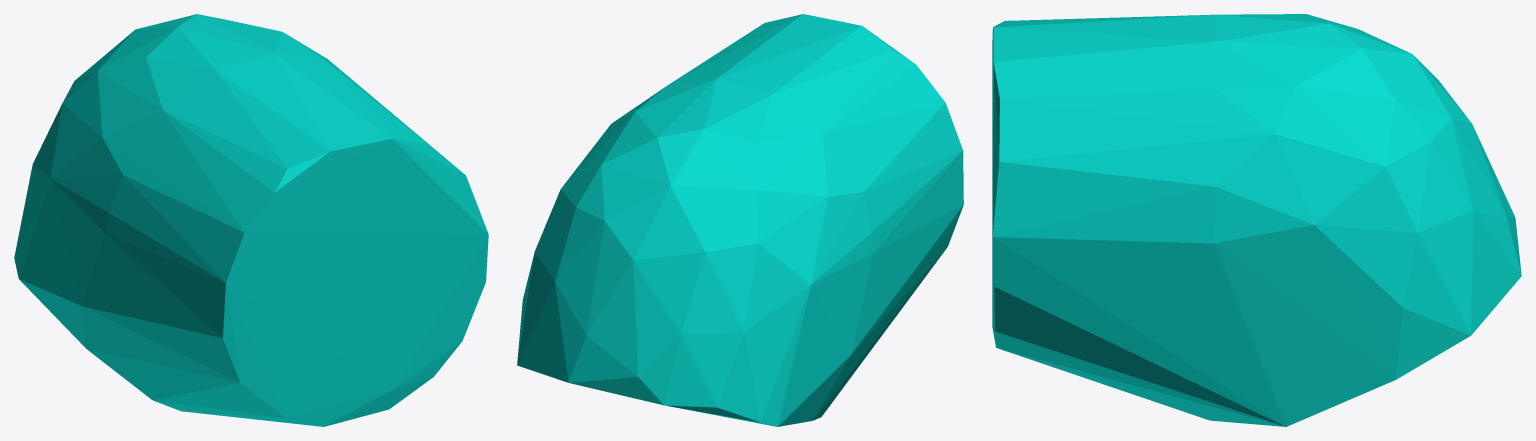
File: arm-L2_convex_piece_004.obj
3 views of the same model, side by side, from view 1: azimuth 30°, elevation 25°; view 2: azimuth 150°, elevation 25°; view 3: azimuth 270°, elevation 25° (orthographic). The views are drawn at different scales.
Size of the model in its own units: 0.0813 by 0.0893 by 0.1217.
